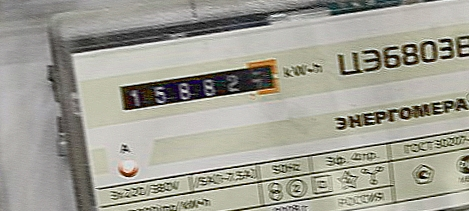1: (126, 89, 141, 109)
2: (224, 74, 239, 94)
5: (151, 86, 166, 107)
7: (250, 78, 263, 93)
8: (176, 81, 190, 104), (201, 78, 215, 101)
screen: (109, 54, 289, 122)
